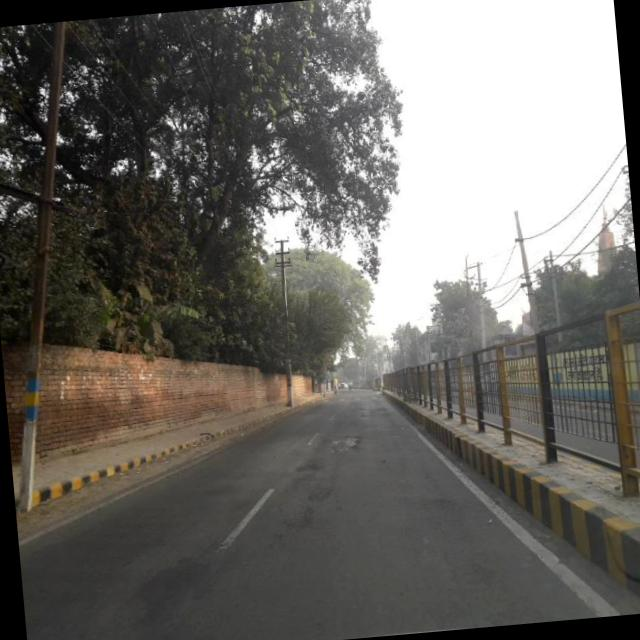pothole: (276, 451, 334, 534), (327, 431, 362, 452)
